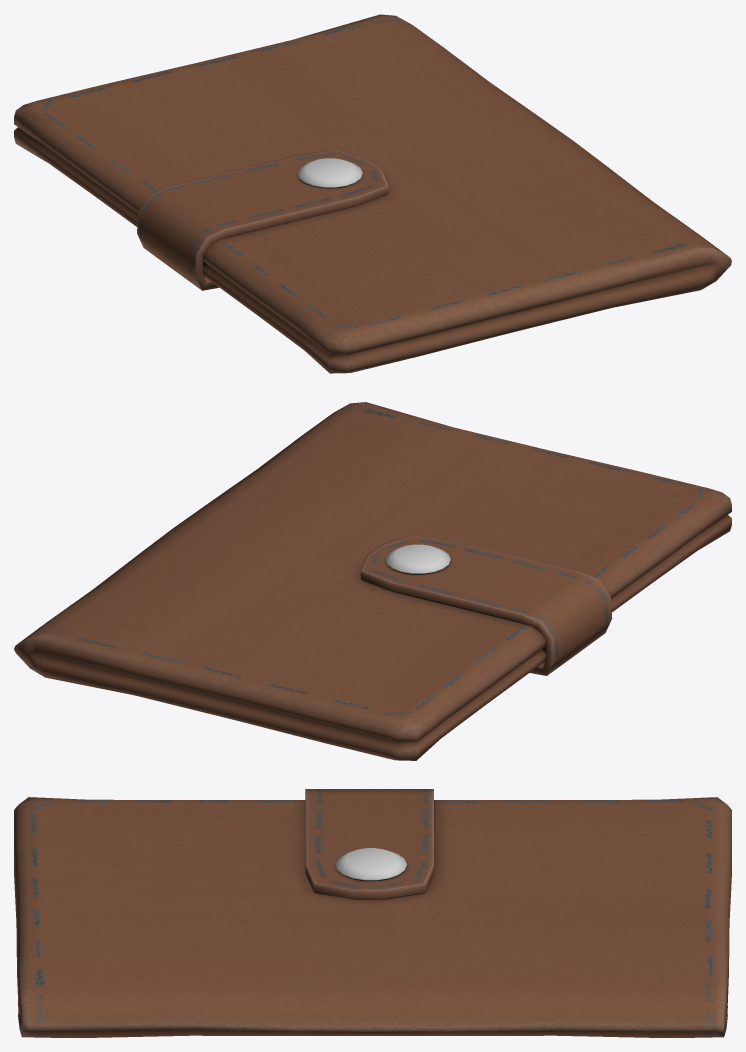
File: GenericProp-Wallet.fbx
3 renders of one model, top to bottom at view 1: azimuth 30°, elevation 25°; view 2: azimuth 150°, elevation 25°; view 3: azimuth 270°, elevation 25°, orthographic. The views are drawn at different scales.
Parts seen in each view (by area): view 1: Wallet; view 2: Wallet; view 3: Wallet.
Boxes of the visible parts, x1,y1,x2,y2 form: Wallet: [14, 14, 731, 373]; Wallet: [14, 402, 731, 760]; Wallet: [14, 789, 731, 1037].
Size of the model in its own units: 20.81 by 3.12 by 28.78.
